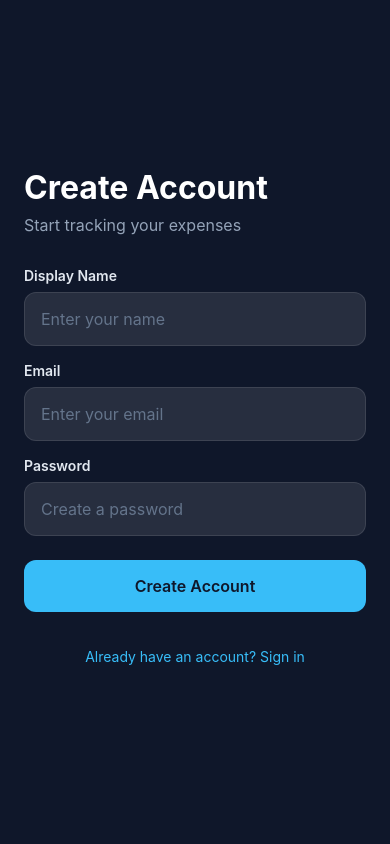
Scenario: RegisterScreen › Email Validation › clears email error when user types
Type "Test User" into the field with placeholder "Enter your name" at (195, 318), box top-left (24, 292), bottom-right (366, 346)
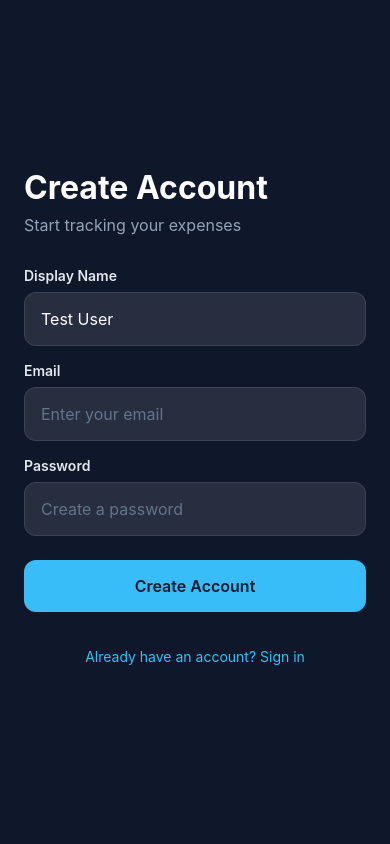
Type "invalid" into the field with placeholder "Enter your email" at (195, 414), box top-left (24, 386), bottom-right (366, 440)
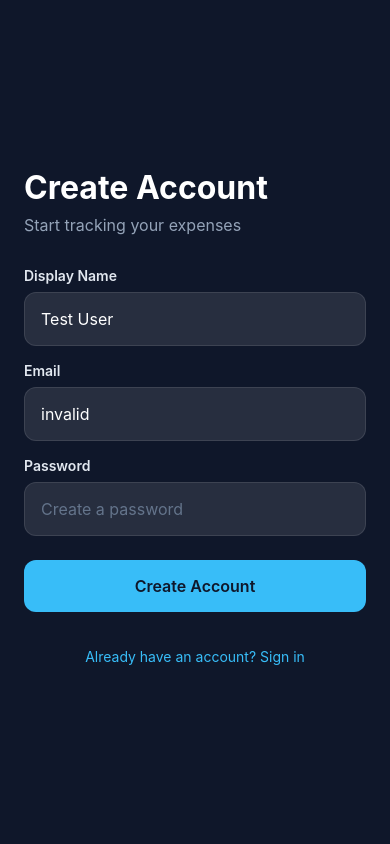
Type "Password123!" into the password field with placeholder "Create a password" at (195, 508), box top-left (24, 482), bottom-right (366, 536)
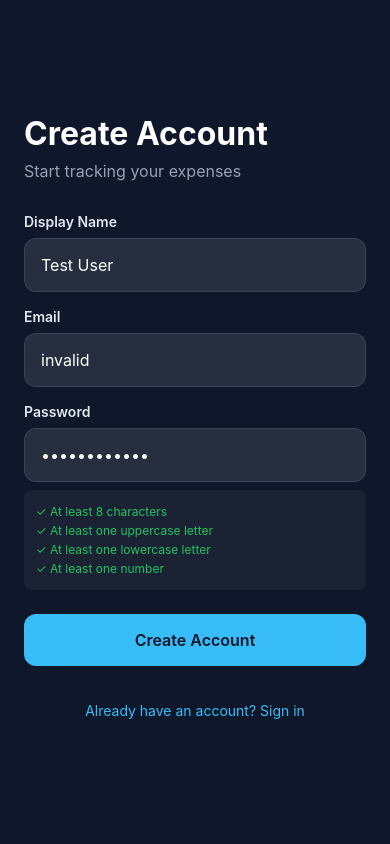
Click the element with test id "register.submitButton" at (195, 640), box top-left (24, 614), bottom-right (366, 666)
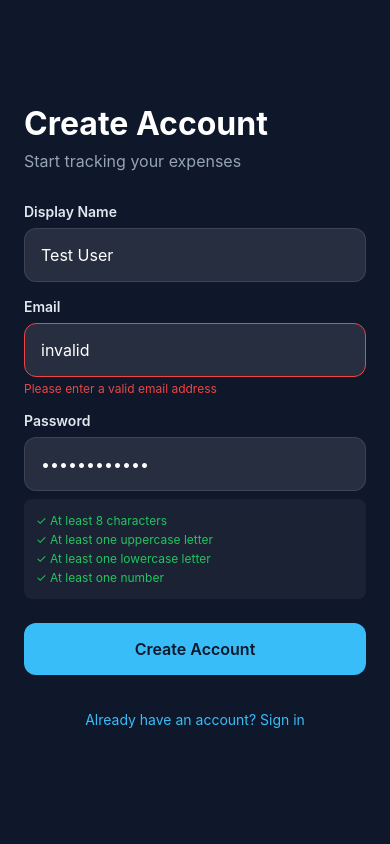
Now the text "Please enter a valid email address" is shown, box top-left (24, 381), bottom-right (217, 396)
Replace the text in the 2nd field with placeholder "Enter your email" with "test@example.com" at (195, 350), box top-left (24, 323), bottom-right (366, 377)
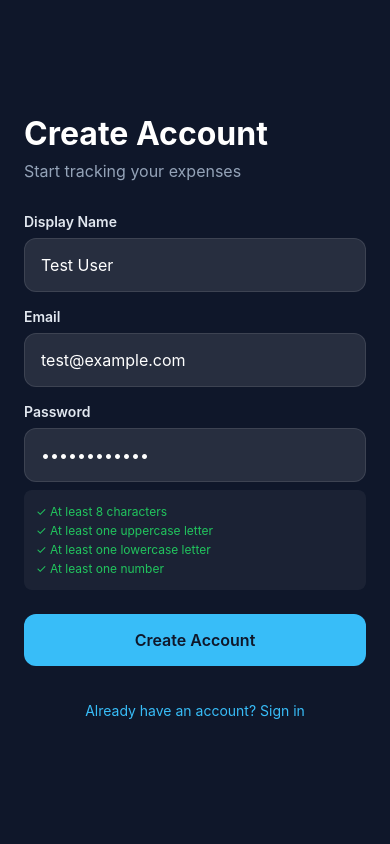
Now the text "valid email" is not shown
